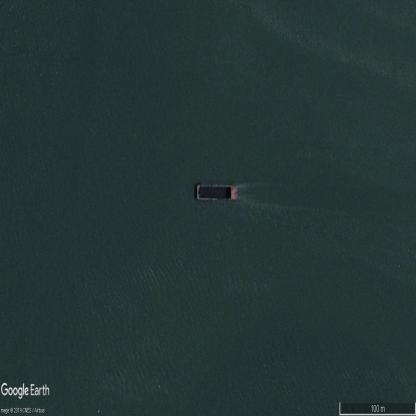ship: (194, 181, 239, 205)
